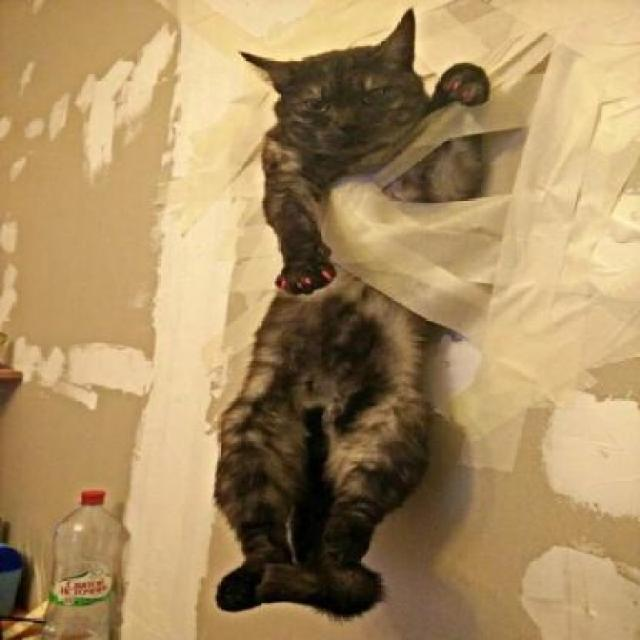cat: (210, 29, 482, 620)
